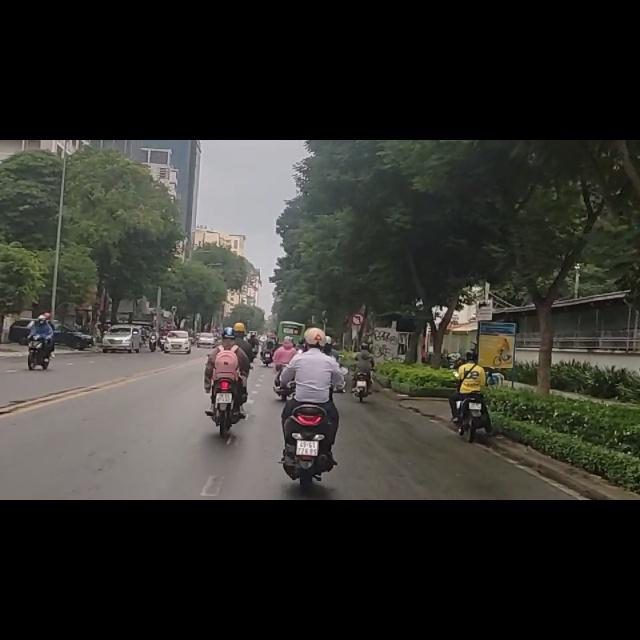Cấm rẽ trái: (351, 312, 364, 326)
